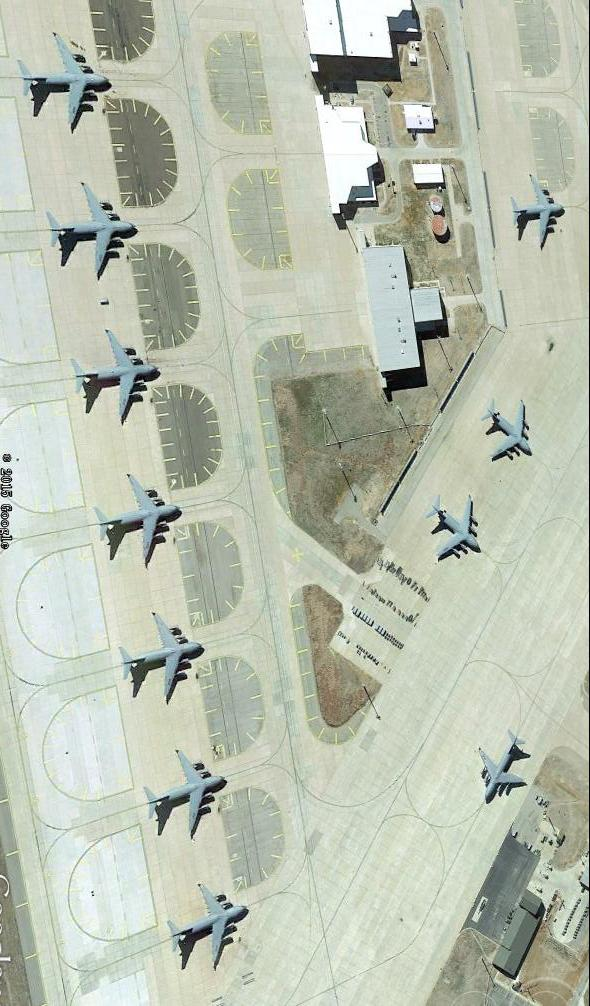C-17: (16, 31, 118, 130), (114, 605, 205, 702), (92, 470, 184, 564), (49, 185, 141, 277), (69, 326, 157, 421), (144, 751, 231, 840), (166, 884, 250, 968), (472, 727, 532, 806), (509, 172, 568, 252), (422, 496, 485, 564), (480, 398, 538, 466)
